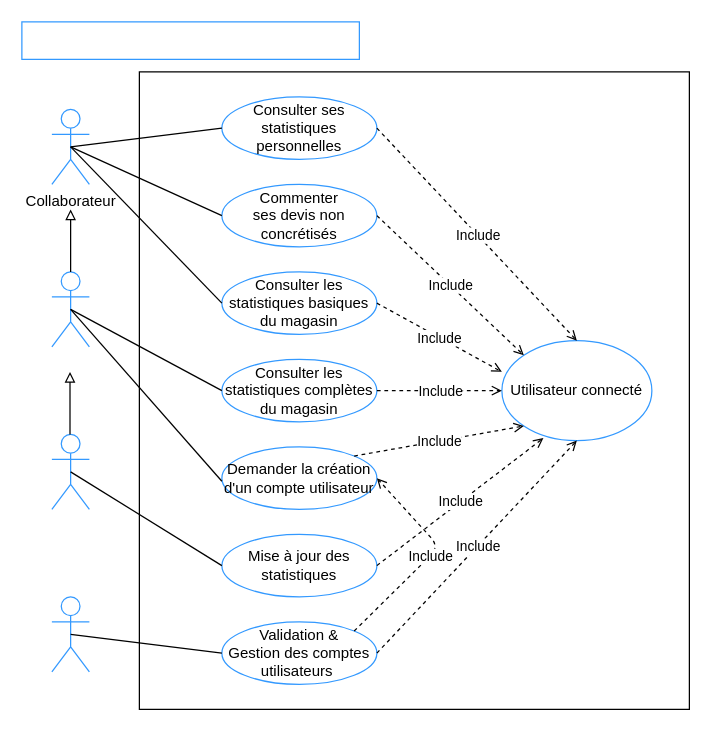
Some shapes in this 711 by 731 pixel diagram are drawn without their labels. Each missing label, with the box of its shape:
Admin: (51, 596, 89, 672)
Diagramme de Cas d'utilisation : Optitop Web: (21, 21, 359, 59)
Manager: (51, 271, 89, 347)
Supermanager: (51, 433, 89, 509)
